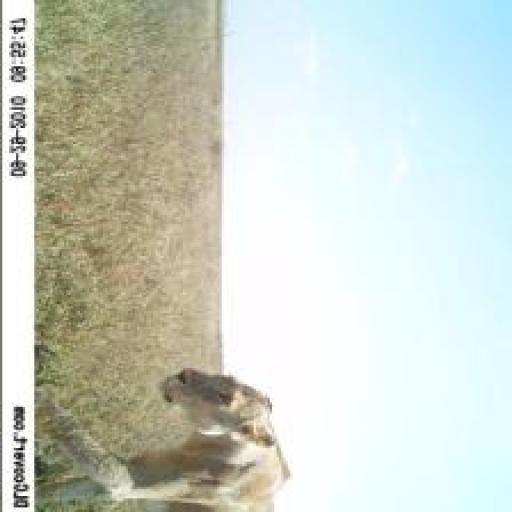lion: (37, 338, 314, 505)
